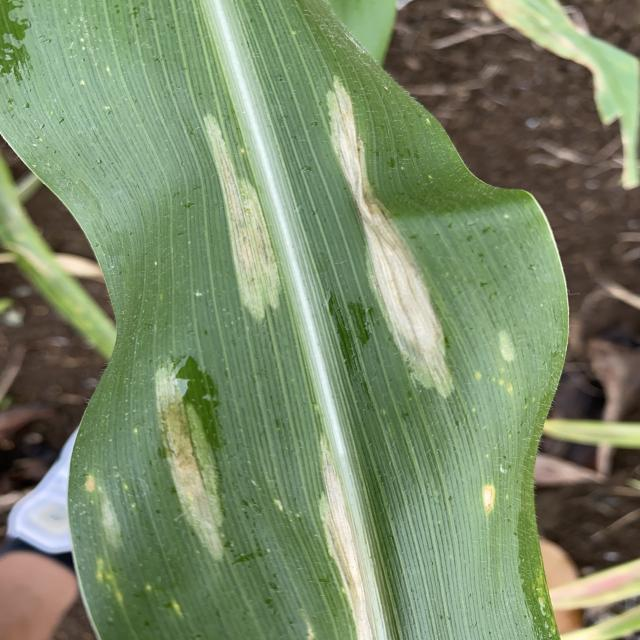Corn_Leaf_Blight: (61, 0, 569, 640)
